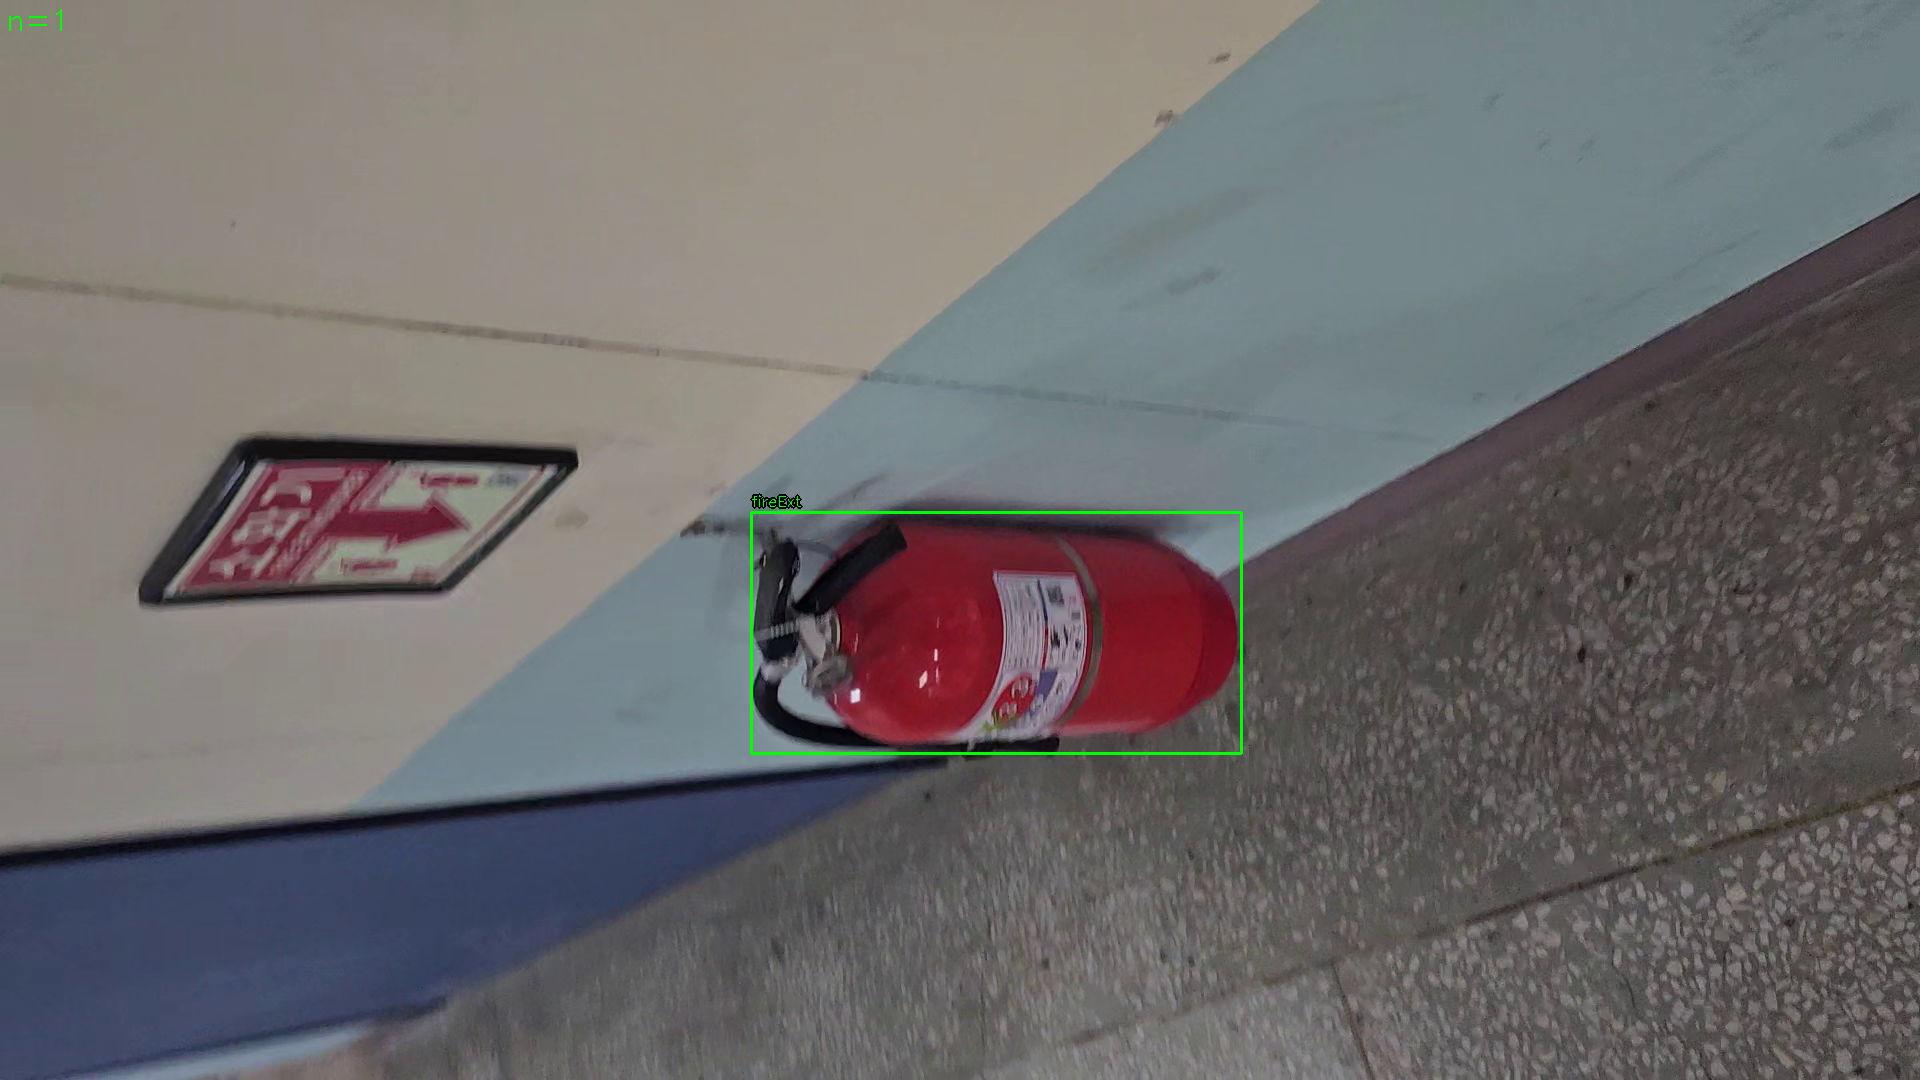lane: (752, 512, 1242, 754)
